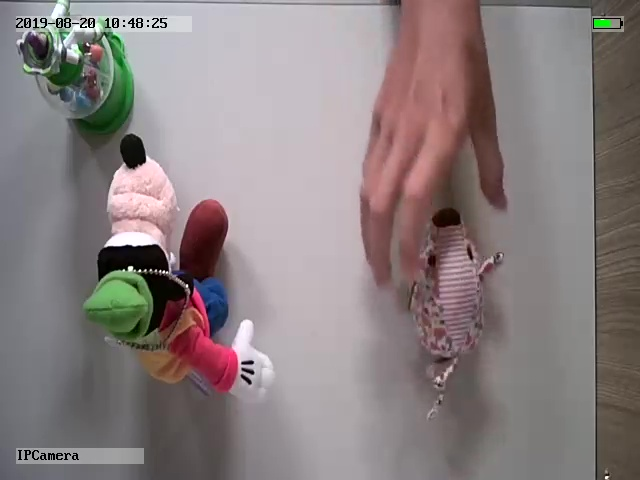buzz: (15, 2, 137, 126)
goofy: (75, 130, 275, 405)
pig: (404, 208, 508, 422)
